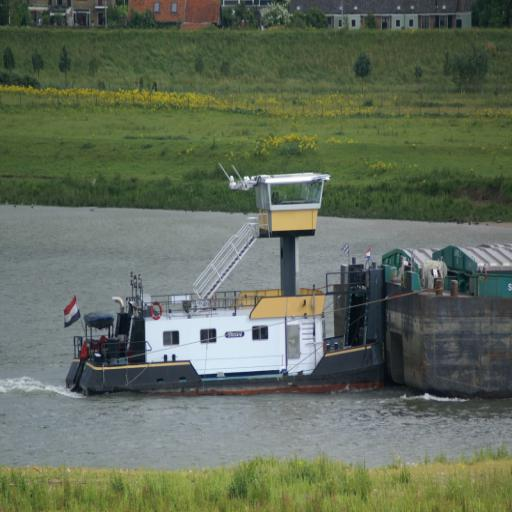tugboat: (60, 162, 395, 415)
